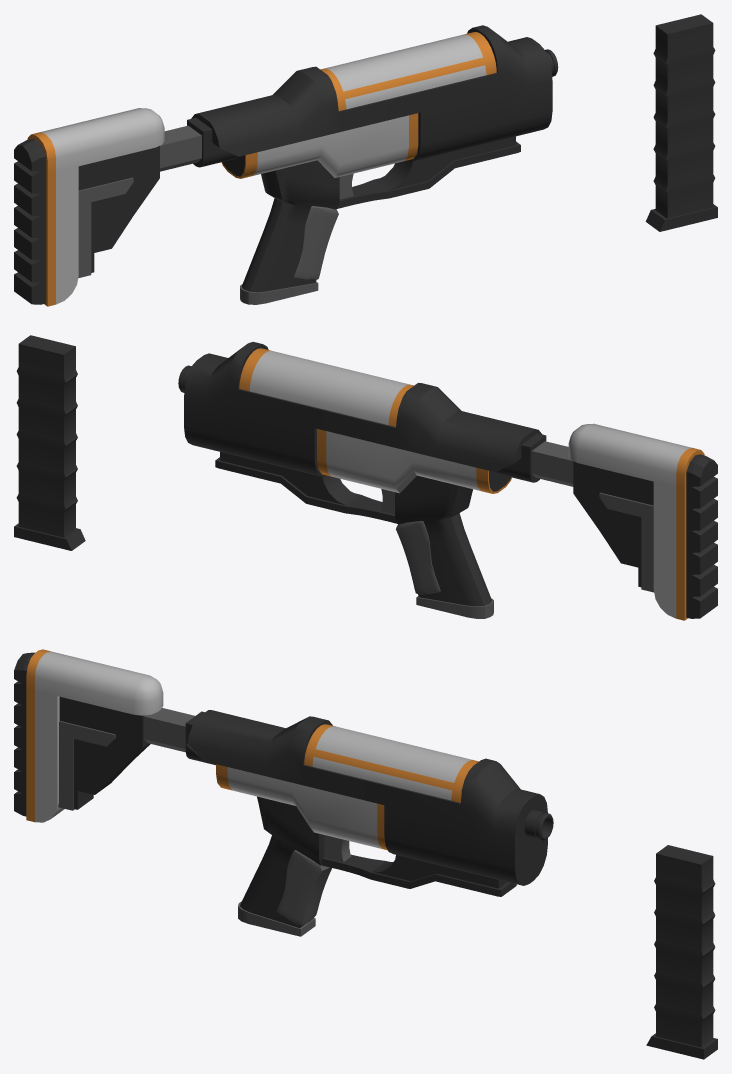
File: smg_generic.glb
3 views of the same model, one above another, from view 1: azimuth 30°, elevation 25°; view 2: azimuth 150°, elevation 25°; view 3: azimuth 330°, elevation 25° (orthographic).
Parts seen in each view (by area): view 1: SMG_1, Magazine_SMG; view 2: SMG_1, Magazine_SMG; view 3: SMG_1, Magazine_SMG.
Boxes of the visible parts, x1,y1,x2,y2 form: SMG_1: (14,25,558,306); Magazine_SMG: (645,14,717,231); SMG_1: (178,342,717,620); Magazine_SMG: (14,335,85,550); SMG_1: (14,649,553,936); Magazine_SMG: (646,845,717,1059).
Size of the model in its own units: 0.8491 by 0.2858 by 0.0706.
